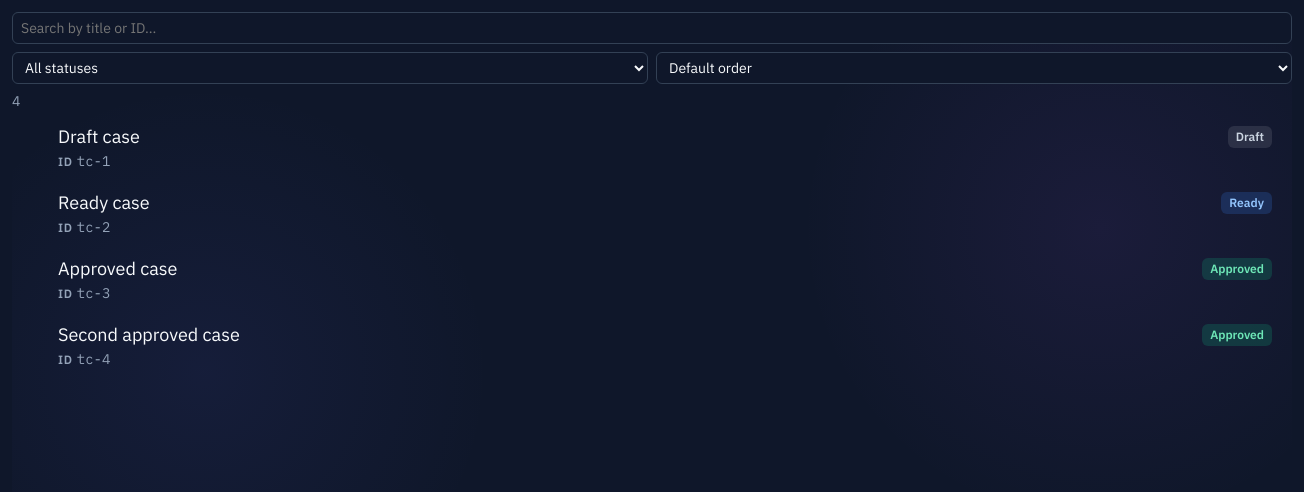
Test: TestCaseList status filter (GH-453) › narrows the list to the selected status instead of emptying it
The width and height of the screenshot is (1304, 492).
Step 1. Select "Approved" in the dropdown with test id "tc-list-filter-status" → (330, 68), box top-left (12, 52), bottom-right (648, 84)
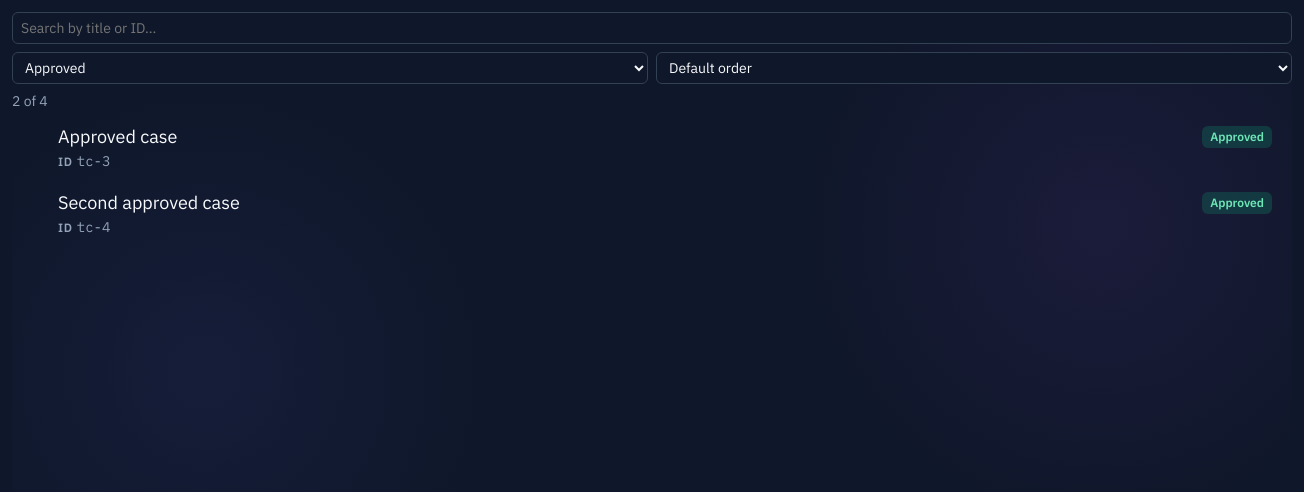
Expected: the text "Approved case" is shown, top-left (58, 125), bottom-right (178, 148)
Expected: the text "Draft case" is gone
